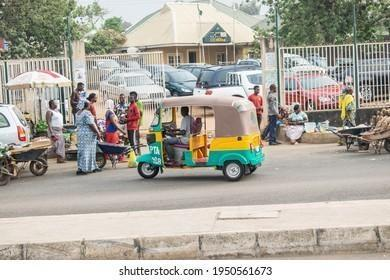keke: (135, 92, 263, 184)
